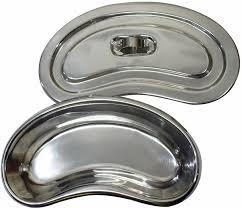Kidney Tray: (2, 97, 206, 205)
